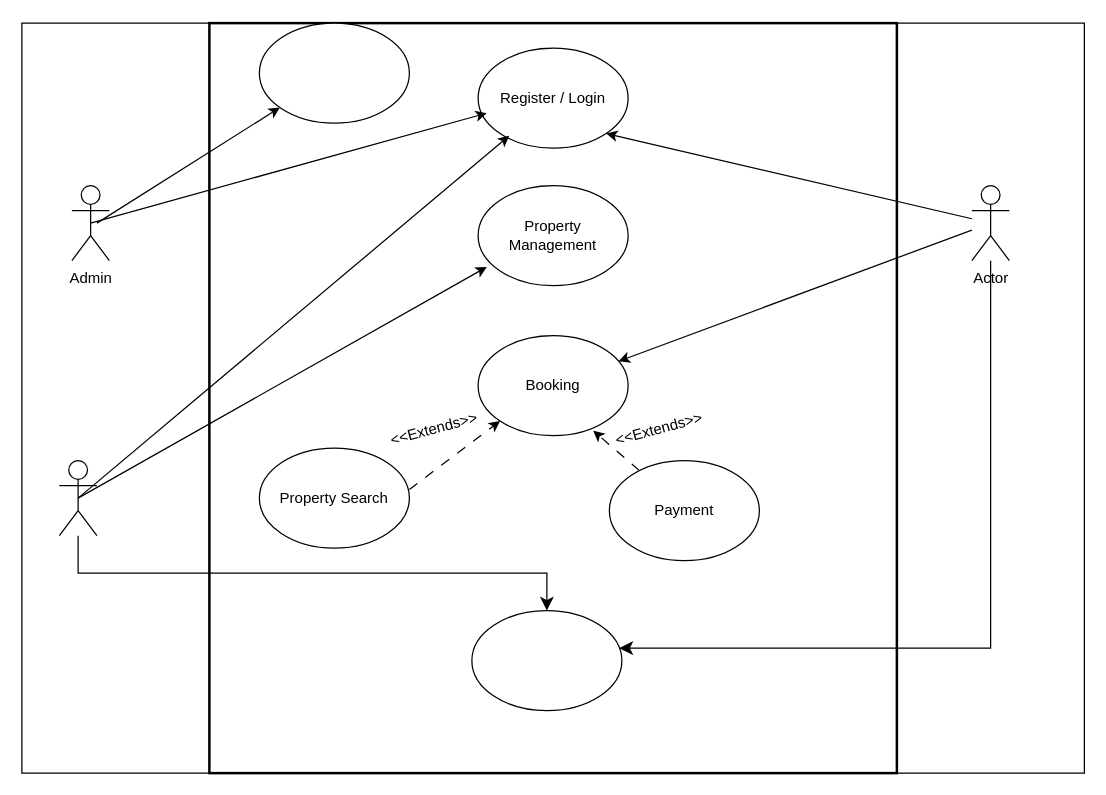
This 1106x795 diagram has some shape labels left out. The centre of each missing label's shape, as x and y in pixels:
Host: (x=77, y=497)
Manage services: (x=333, y=72)
Messaging: (x=546, y=660)
